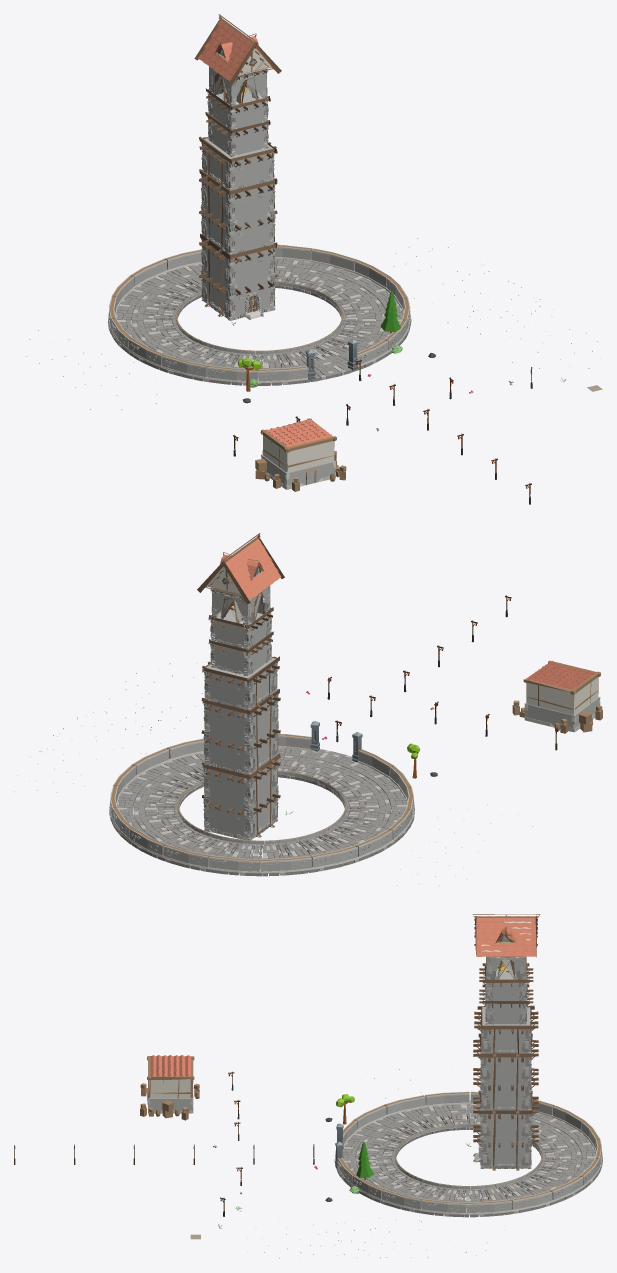
File: chunk_1_2_lod0.glb
3 views of the same model, one above another, from view 1: azimuth 30°, elevation 25°; view 2: azimuth 150°, elevation 25°; view 3: azimuth 270°, elevation 25° (orthographic). The views are drawn at different scales.
Visible parts, largest first — view 1: Batched_chunk_1_2; view 2: Batched_chunk_1_2; view 3: Batched_chunk_1_2.
Boxes of the visible parts, x1,y1,x2,y2 form: Batched_chunk_1_2: [26, 14, 602, 504]; Batched_chunk_1_2: [14, 533, 602, 885]; Batched_chunk_1_2: [14, 914, 602, 1258].
Bounding box in the file's own units: 88.66 × 51.84 × 112.
Materials: 32 (3 with a texture image).
